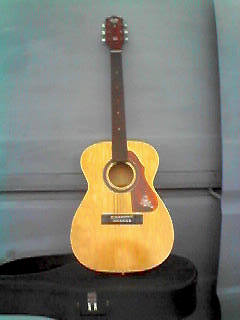guitar: (70, 15, 176, 275)
